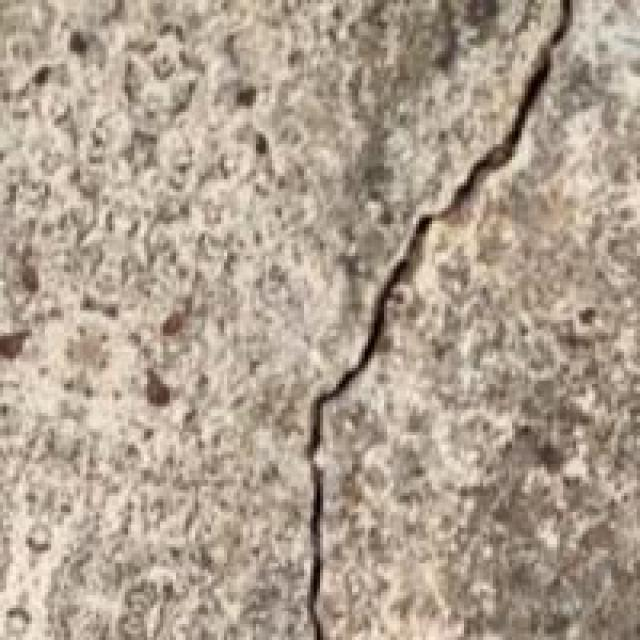crack: (250, 3, 586, 637)
